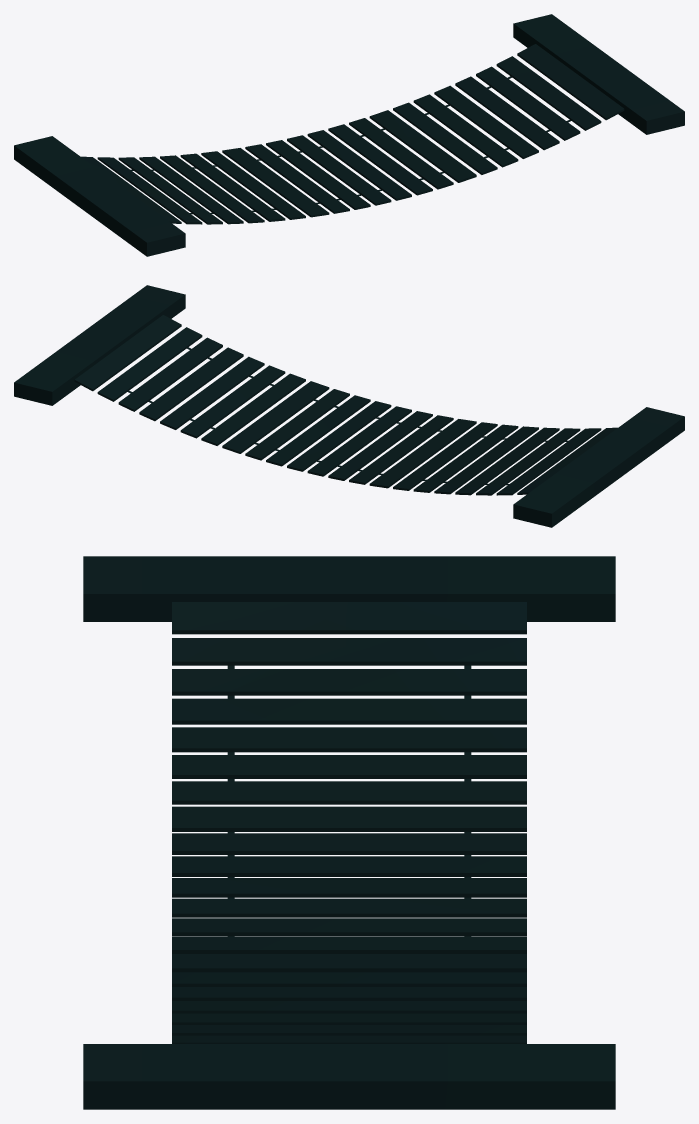
Rendered from MesCollider.fbx.
3 views of the same model, one above another, from view 1: azimuth 30°, elevation 25°; view 2: azimuth 150°, elevation 25°; view 3: azimuth 270°, elevation 25° (orthographic). The views are drawn at different scales.
Visible parts, largest first — view 1: Plane.012; view 2: Plane.012; view 3: Plane.012.
Part boxes in pixels (box(x1,y1,x2,y2)): Plane.012: box(14, 14, 684, 256); Plane.012: box(14, 285, 684, 527); Plane.012: box(83, 556, 615, 1109).
Bounding box in the file's own units: 1400 × 101 × 600.
